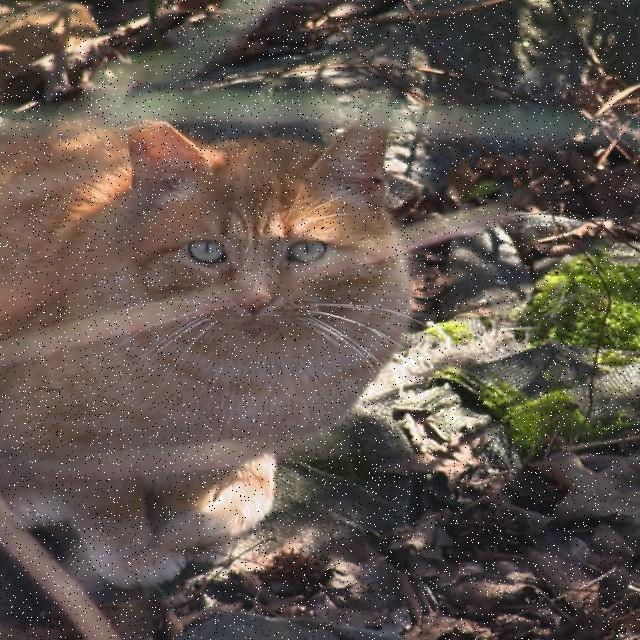cat: (2, 122, 410, 588)
